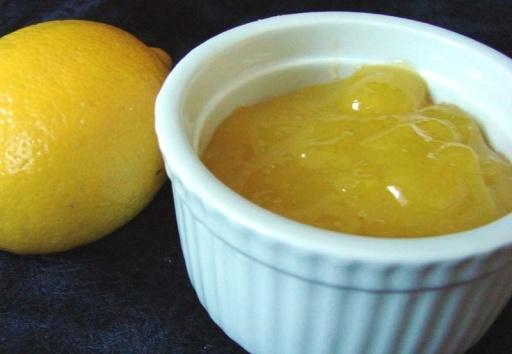background: (158, 35, 409, 131), (0, 10, 139, 141)
